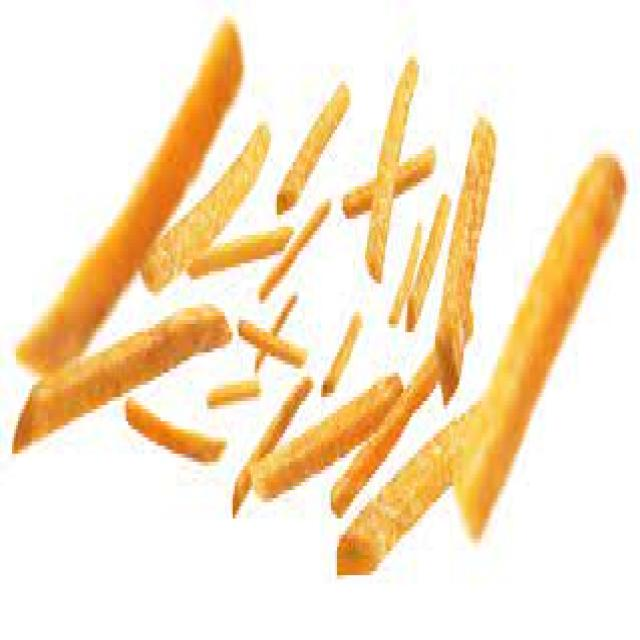Fries: (82, 139, 627, 570)
